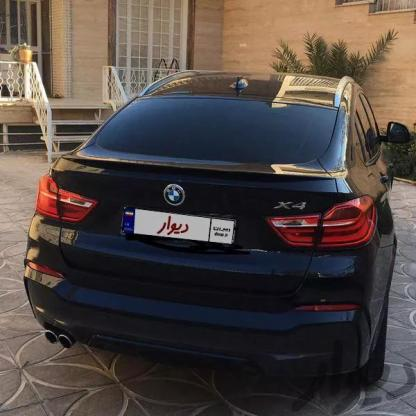Car: (20, 71, 411, 386)
